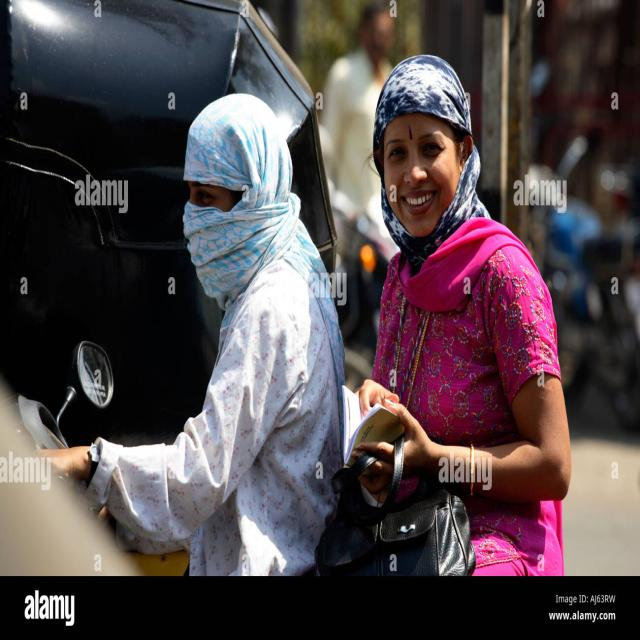No-Helmet: (174, 97, 305, 300), (369, 52, 490, 248)
Person: (360, 46, 568, 569), (141, 95, 351, 574)
